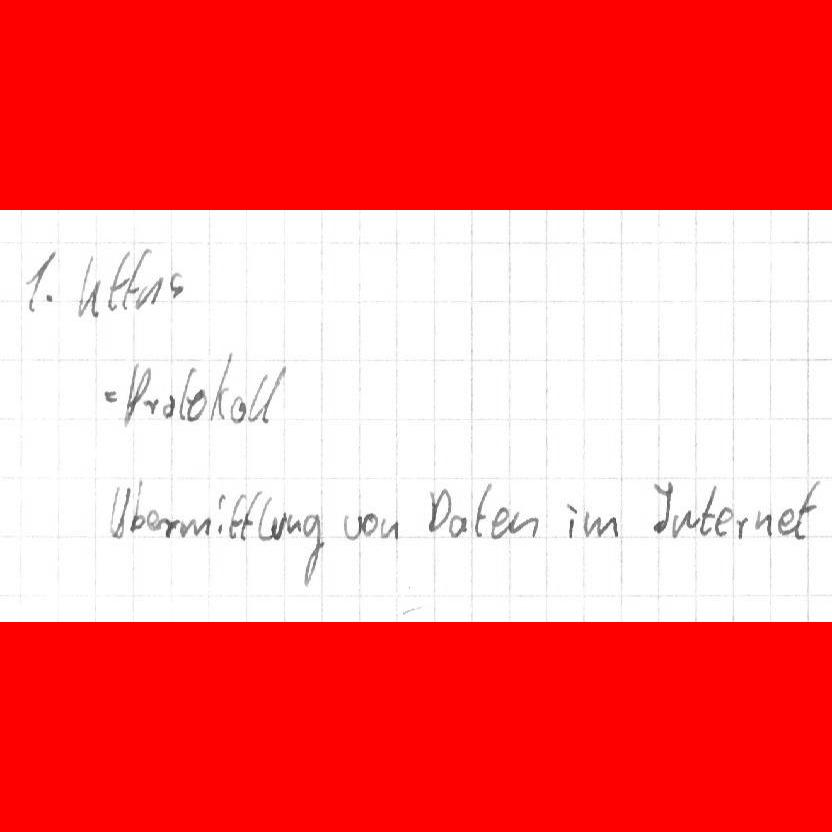Char: (22, 247, 55, 316), (793, 478, 825, 541), (122, 245, 151, 314), (75, 252, 103, 320), (301, 511, 325, 590), (208, 350, 233, 423), (124, 361, 151, 427), (105, 248, 130, 315), (649, 478, 674, 534), (263, 365, 287, 422), (426, 487, 452, 537), (108, 484, 130, 541), (239, 488, 261, 543), (582, 509, 621, 540), (128, 477, 147, 536), (473, 481, 492, 540), (247, 370, 267, 425), (505, 510, 540, 540), (136, 276, 164, 313), (670, 506, 700, 540), (698, 483, 717, 536), (227, 491, 247, 541), (183, 386, 209, 424), (256, 494, 274, 542), (178, 515, 212, 540), (178, 366, 193, 422), (489, 505, 510, 542), (562, 500, 580, 541), (444, 512, 470, 540), (713, 506, 734, 539), (340, 512, 363, 542), (752, 508, 775, 538), (168, 270, 187, 305), (228, 392, 248, 424), (777, 505, 796, 536), (269, 510, 287, 542), (215, 490, 226, 538), (378, 516, 399, 541), (732, 512, 749, 541), (161, 515, 178, 540), (285, 511, 302, 536), (362, 510, 377, 538), (144, 506, 160, 532), (41, 289, 60, 309), (141, 396, 159, 416), (163, 392, 176, 418), (100, 387, 117, 404)
